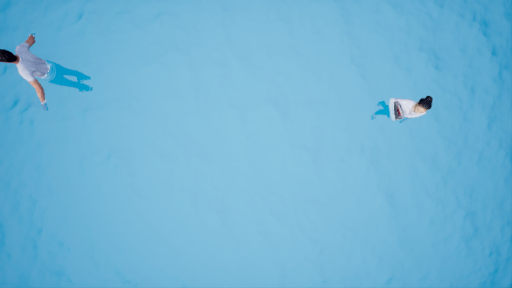person: (1, 28, 100, 108), (367, 94, 438, 126)
